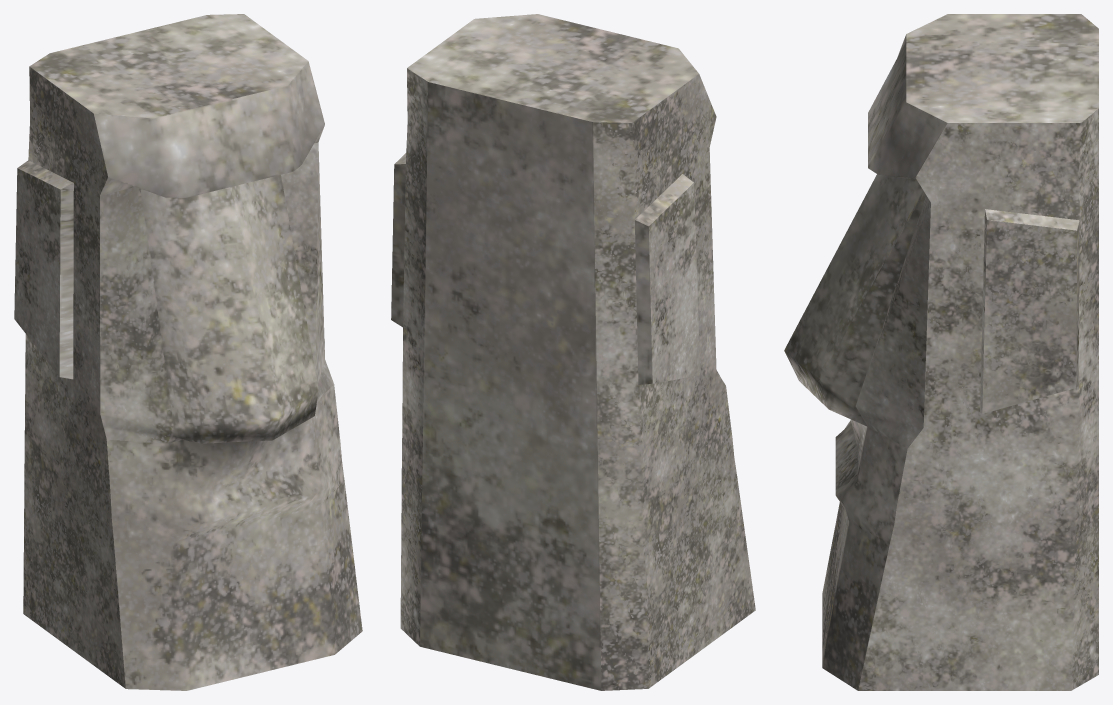
Rendered from moai1_texture.glb.
3 views of the same model, side by side, from view 1: azimuth 30°, elevation 25°; view 2: azimuth 150°, elevation 25°; view 3: azimuth 270°, elevation 25° (orthographic). The views are drawn at different scales.
Visible parts, largest first — view 1: moai1 MOAI; view 2: moai1 MOAI; view 3: moai1 MOAI.
Boxes of the visible parts, x1,y1,x2,y2 form: moai1 MOAI: (14, 14, 362, 690); moai1 MOAI: (391, 14, 755, 690); moai1 MOAI: (784, 14, 1098, 690).
Bounding box in the file's own units: 2.82 × 5.85 × 2.97.
Materials: 1 (1 with a texture image).
